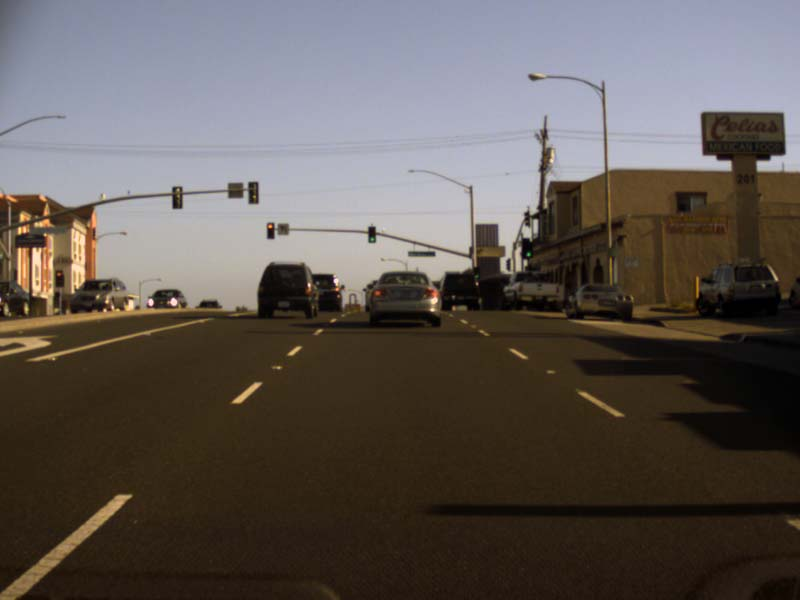Green: (521, 242, 532, 258), (367, 226, 376, 243), (473, 266, 480, 279)
Red: (266, 221, 274, 239), (56, 269, 63, 286)
